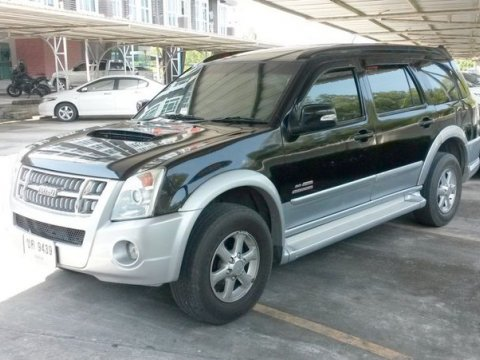pickup: (9, 39, 480, 326)
